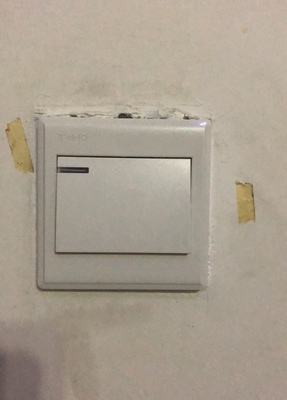switch: (47, 146, 198, 265)
